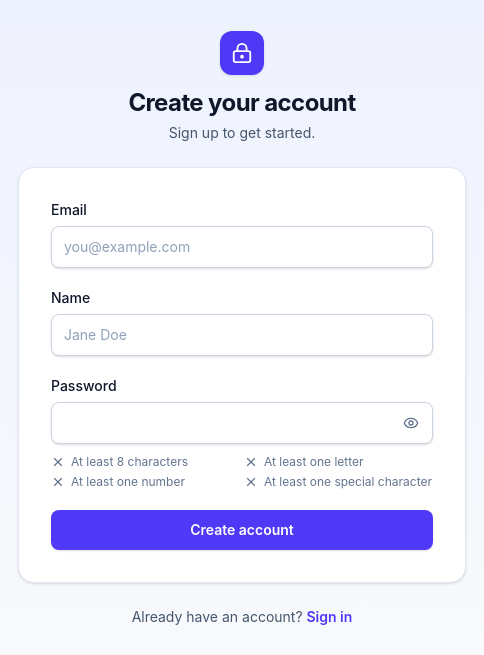
Test: auth flow › shows a duplicate email under the email field
Type "jane@example.com" into the field labelled "Email" at {"x": 242, "y": 247}, box [51,226,433,268]
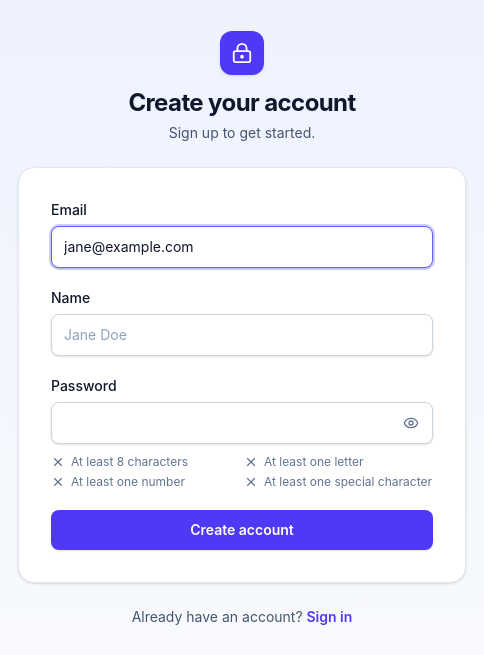
Type "Another Jane" into the field labelled "Name" at {"x": 242, "y": 335}, box [51,314,433,356]
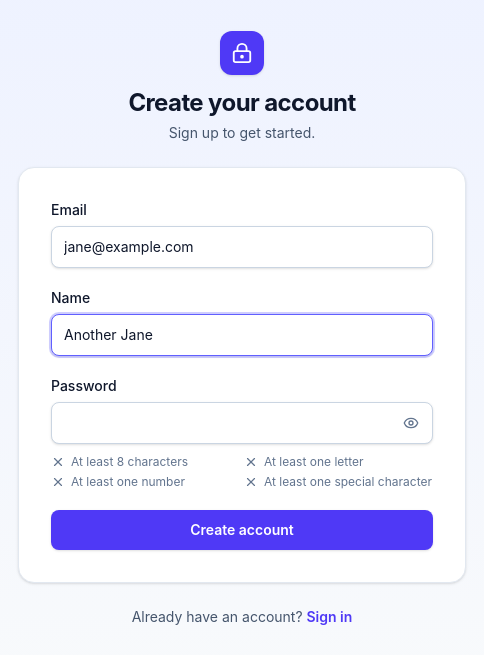
Type "Passw0rd!" into the password field labelled "Password" at {"x": 242, "y": 423}, box [51,402,433,444]
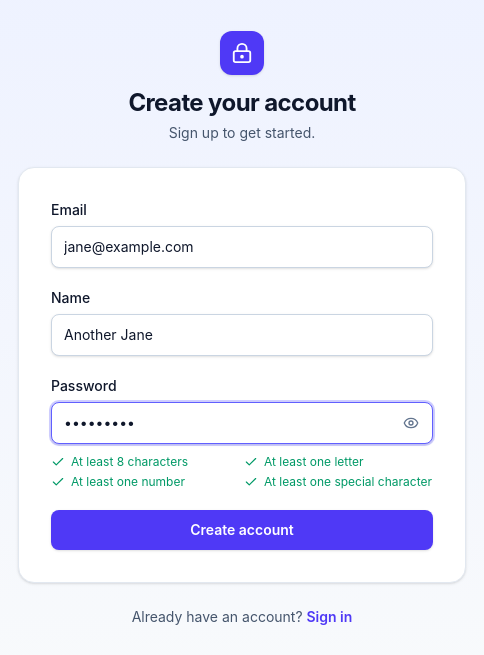
Click the button "Create account" at {"x": 242, "y": 530}, box [51,510,433,550]
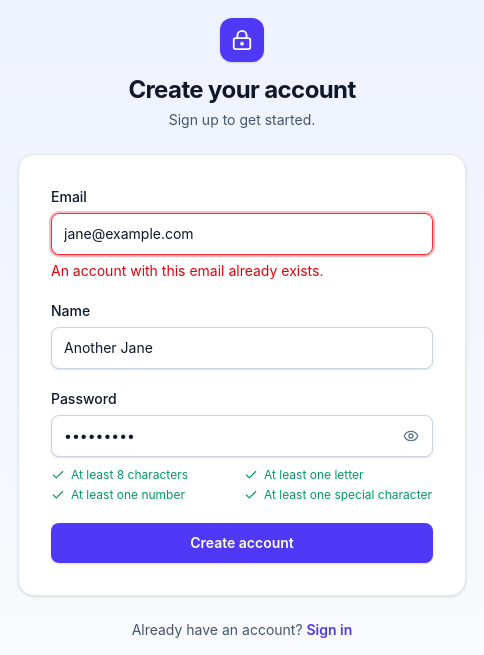
Now the text "An account with this email already exists." is shown, box [51,262,324,279]
